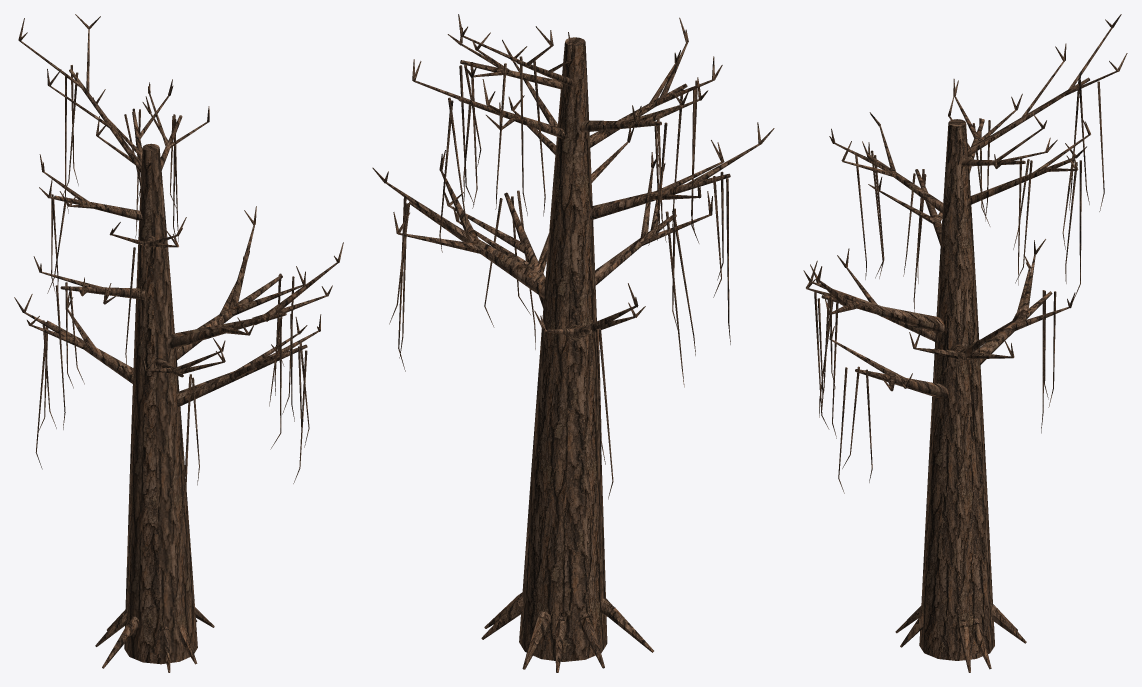
Rendered from weeping-willow-v01.glb.
3 renders of one model, left to right at view 1: azimuth 30°, elevation 25°; view 2: azimuth 150°, elevation 25°; view 3: azimuth 270°, elevation 25°, orthographic. The views are drawn at different scales.
Visible parts, largest first — view 1: dead-tree-willow; view 2: dead-tree-willow; view 3: dead-tree-willow.
Boxes of the visible parts, x1,y1,x2,y2 form: dead-tree-willow: [14, 14, 343, 672]; dead-tree-willow: [372, 14, 774, 672]; dead-tree-willow: [803, 14, 1127, 672].
Size of the model in its own units: 4.72 by 10.02 by 4.88.
Materials: 1 (1 with a texture image).
